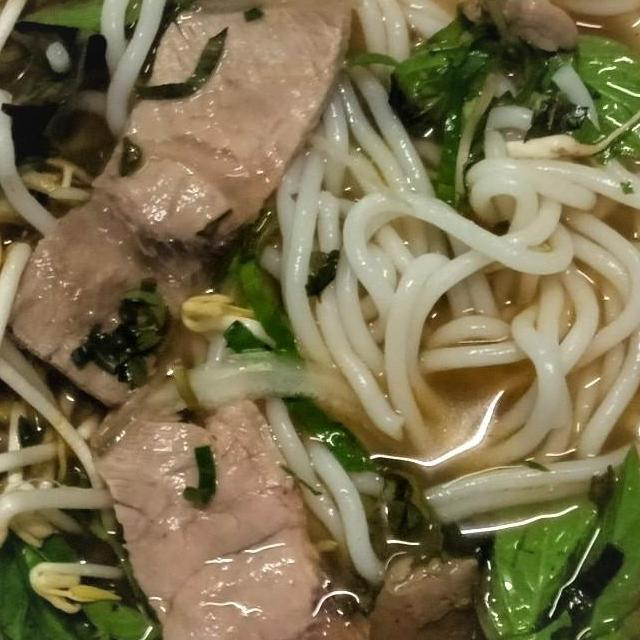bun: (247, 0, 640, 592)
bun bo: (0, 0, 640, 640)
thit bo: (0, 0, 376, 440), (72, 372, 389, 640), (344, 544, 522, 640)
